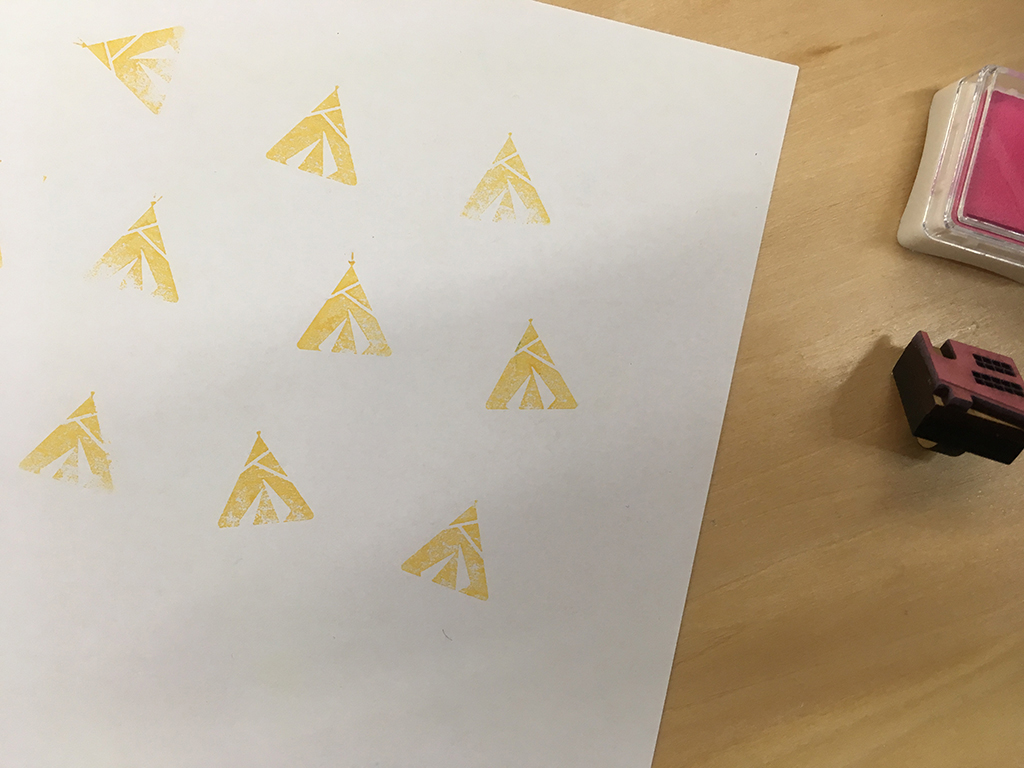tent: (70, 23, 192, 132), (80, 186, 185, 311), (443, 122, 559, 230), (396, 487, 496, 609), (292, 246, 396, 361), (16, 386, 118, 500), (215, 425, 321, 531), (482, 309, 583, 419), (263, 82, 363, 187)
